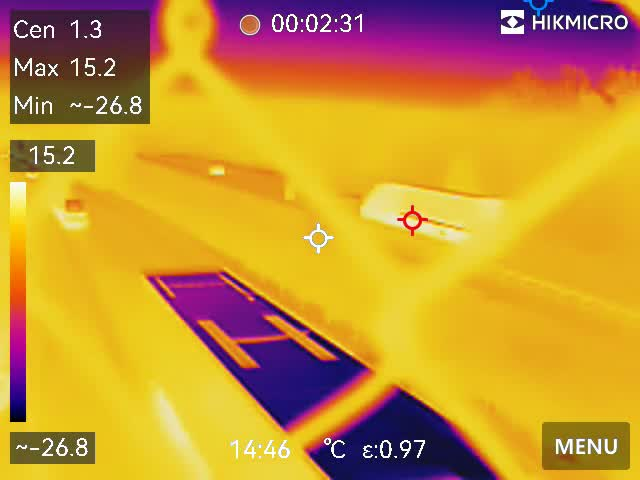heavyTruck: (141, 258, 513, 480), (358, 174, 506, 242)
